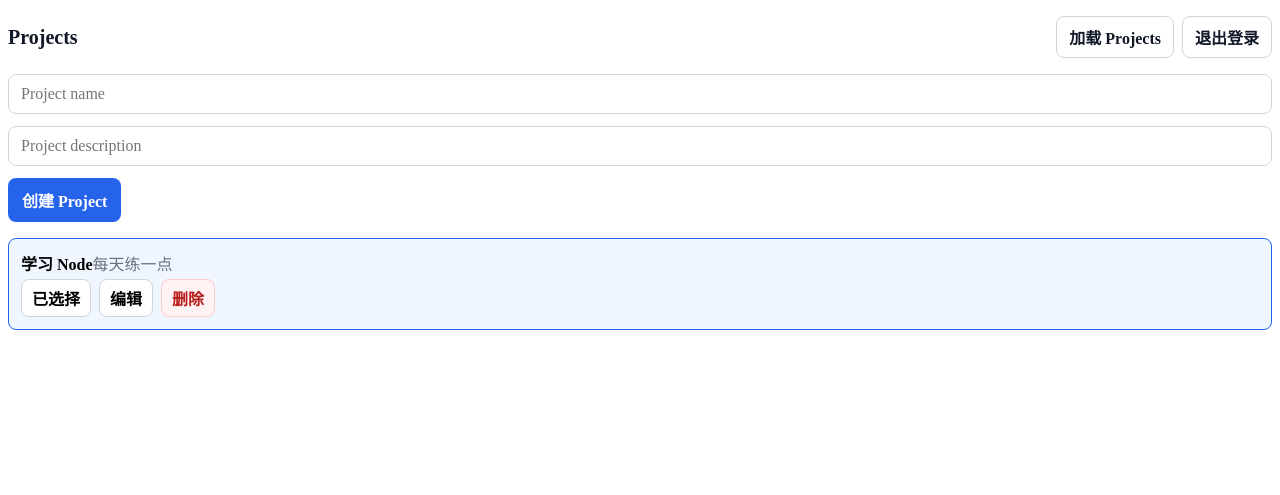
it: ProjectListPanel › 保存中时会禁用保存按钮并显示保存中文案
Click the button "编辑".
click(126, 298)  # box [99,279,153,317]
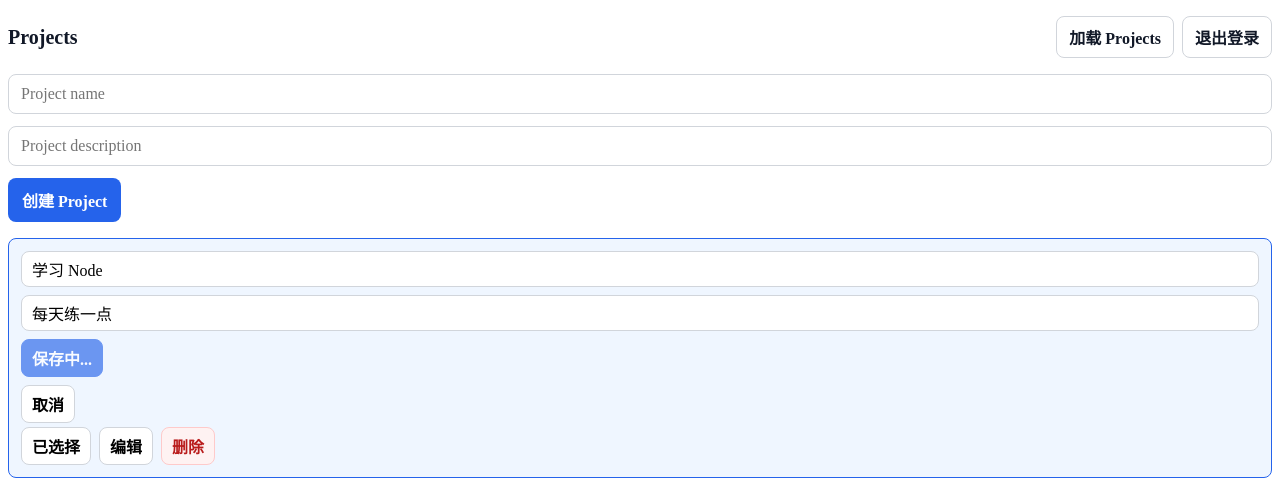
Expected: the button "保存中..." is disabled, [21,339,103,377]
